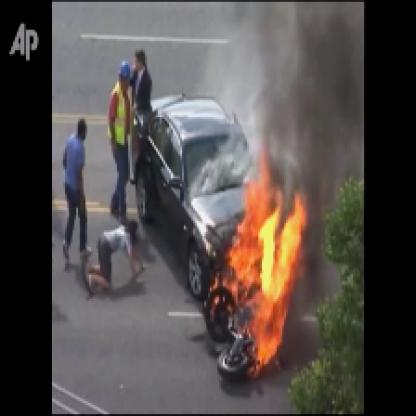Fire: (210, 149, 304, 377)
Smoke: (245, 2, 362, 169)
